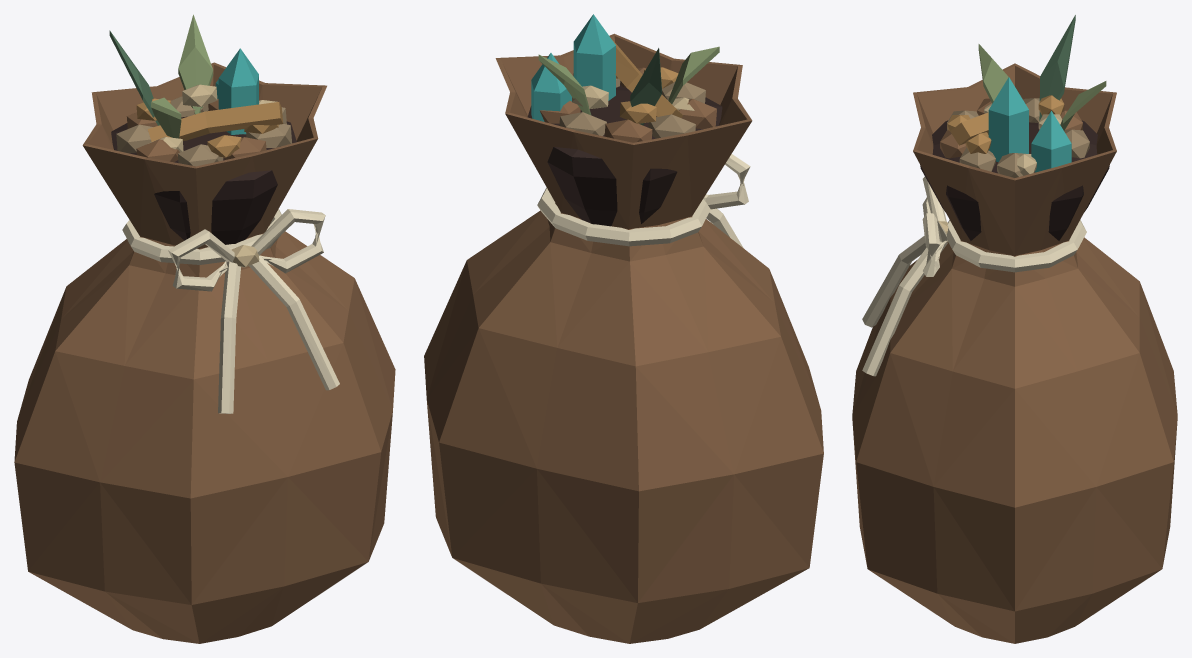
Rendered from magic_pouch.glb.
3 views of the same model, side by side, from view 1: azimuth 30°, elevation 25°; view 2: azimuth 150°, elevation 25°; view 3: azimuth 270°, elevation 25° (orthographic). The views are drawn at different scales.
Visible parts, largest first — view 1: SM_Magic_IngredientPouch; view 2: SM_Magic_IngredientPouch; view 3: SM_Magic_IngredientPouch.
Boxes of the visible parts, x1,y1,x2,y2 form: SM_Magic_IngredientPouch: (14,14,395,643); SM_Magic_IngredientPouch: (424,14,823,643); SM_Magic_IngredientPouch: (852,15,1177,643).
Size of the model in its own units: 0.142 by 0.205 by 0.1071.
1 material, 1 textured.
